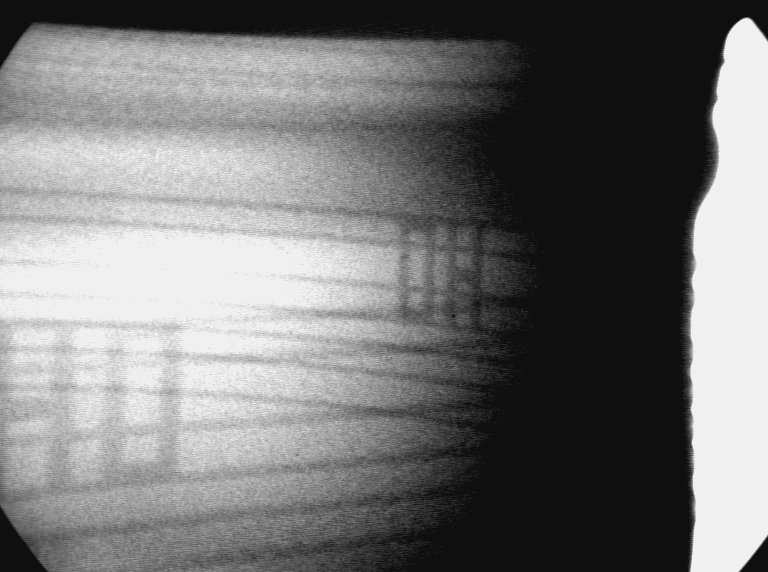defect: (4, 317, 192, 501)
